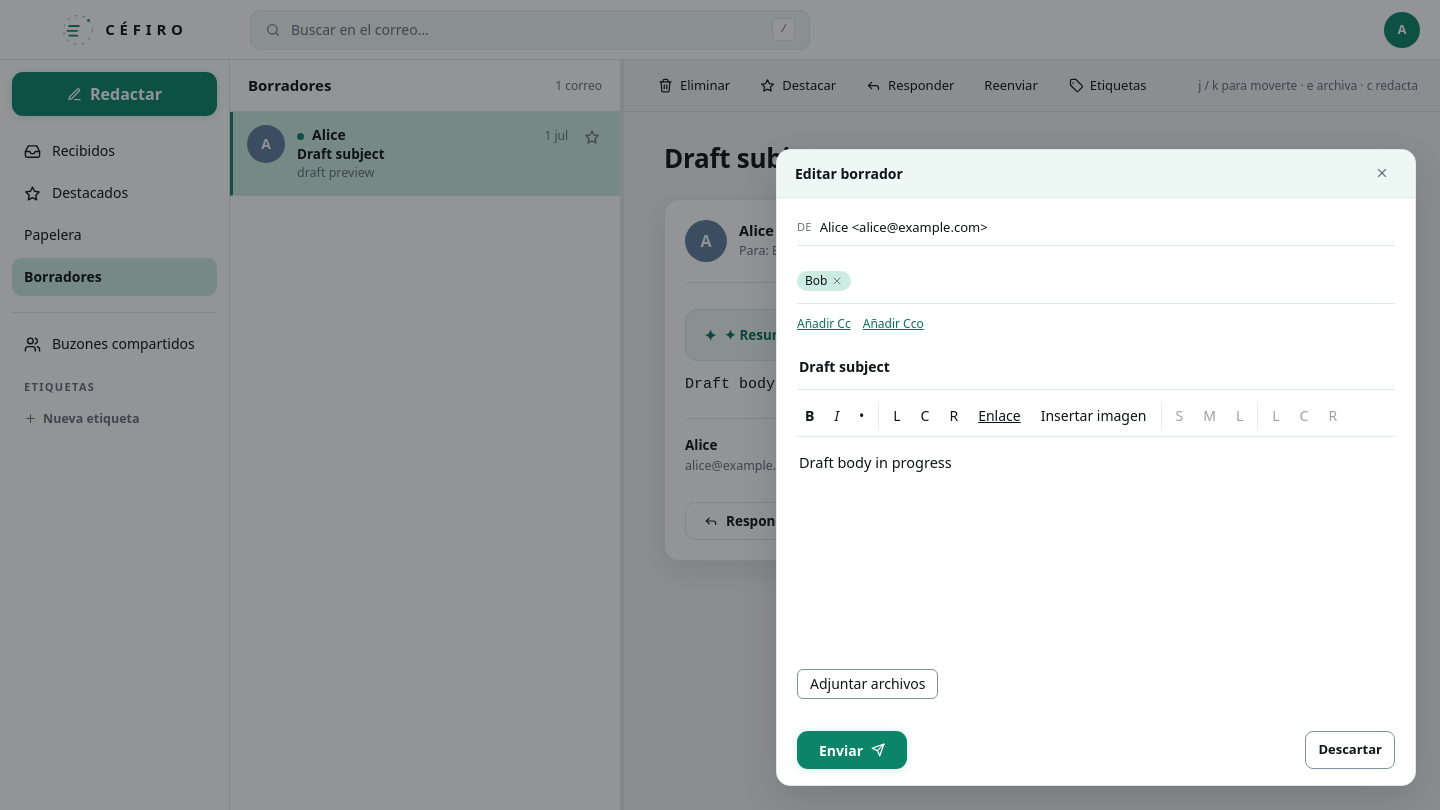
Test: clearing the piggybacked thread param when a draft-mode composer closes › clears the thread param after a successful send, so the reader doesn't linger on the sent-and-trashed draft
Note: GH #269: edit-draft composer name.
Click the button "Enviar" at (852, 750), box [797, 731, 907, 769]
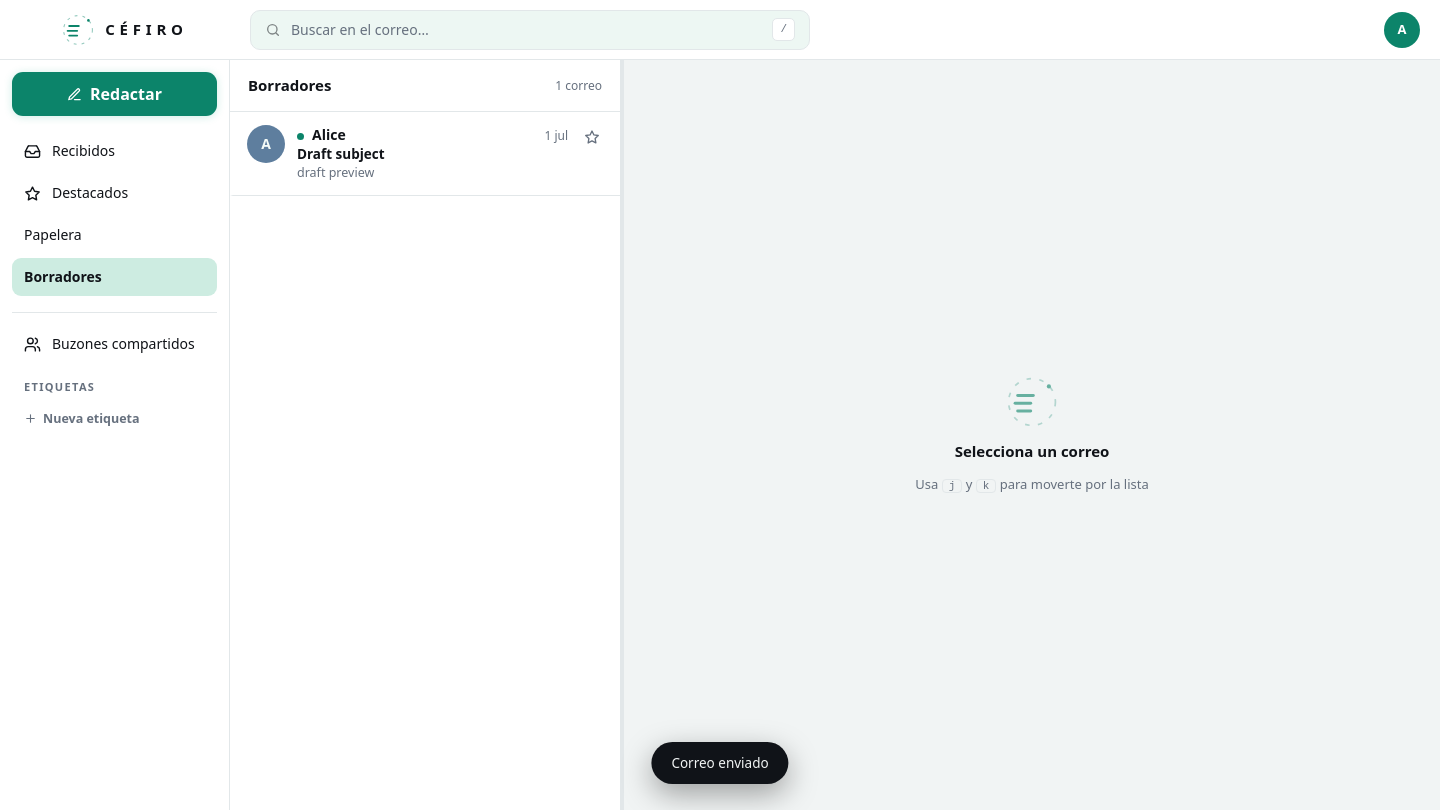
Check: the heading "Editar borrador" is gone
Check: the element with test id "thread-actions-bar" is gone
